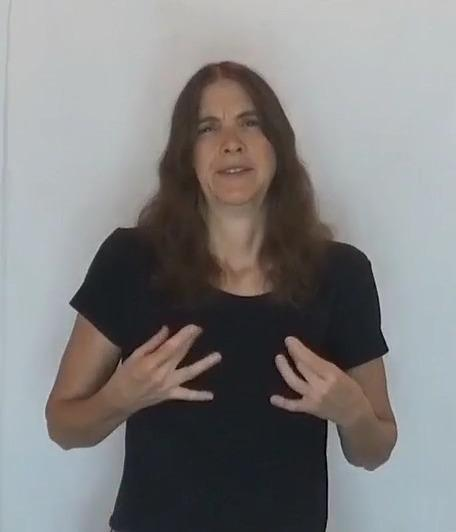Dolor: (20, 40, 425, 492)
